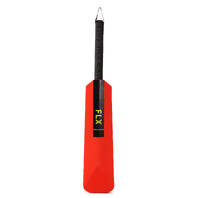bottom left: (76, 181, 93, 195)
bottom right: (108, 181, 123, 195)
top left: (78, 81, 94, 92)
top right: (106, 80, 122, 95)
